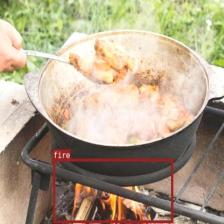fire: (53, 159, 173, 222)
